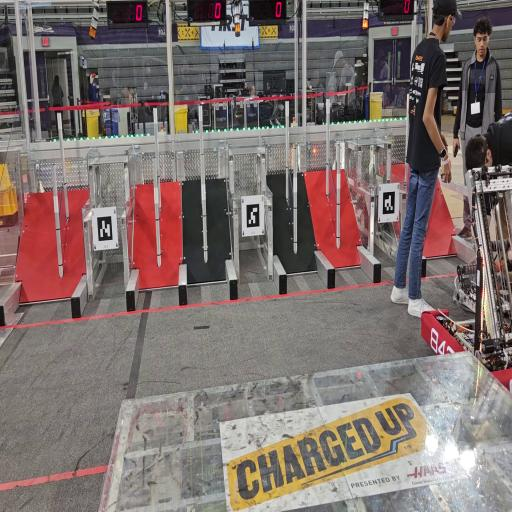robot: (422, 158, 509, 409)
